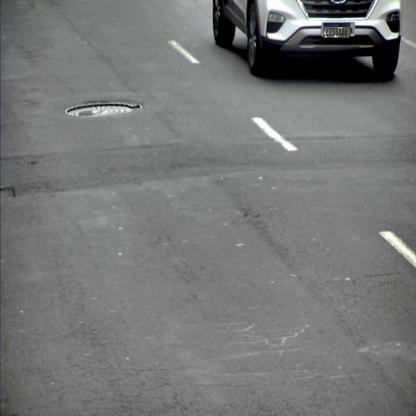PlacaM: (324, 23, 350, 38)
